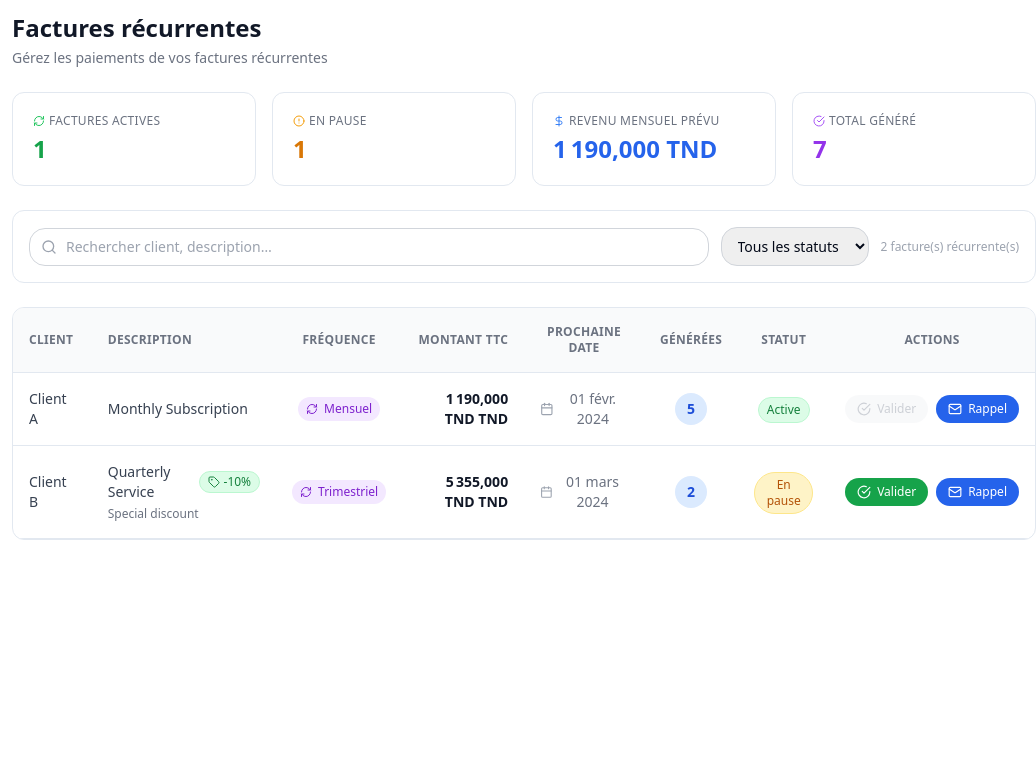
Test: RecurringInvoices › Search Functionality › should filter invoices by search term
This screenshot has width=1036, height=780.
Expected: the text "Monthly Subscription" is shown, x1=108 y1=399 x2=260 y2=419
Type "Monthly" into the field with placeholder "Rechercher client, description…" at [369, 246], box x1=29 y1=228 x2=708 y2=266
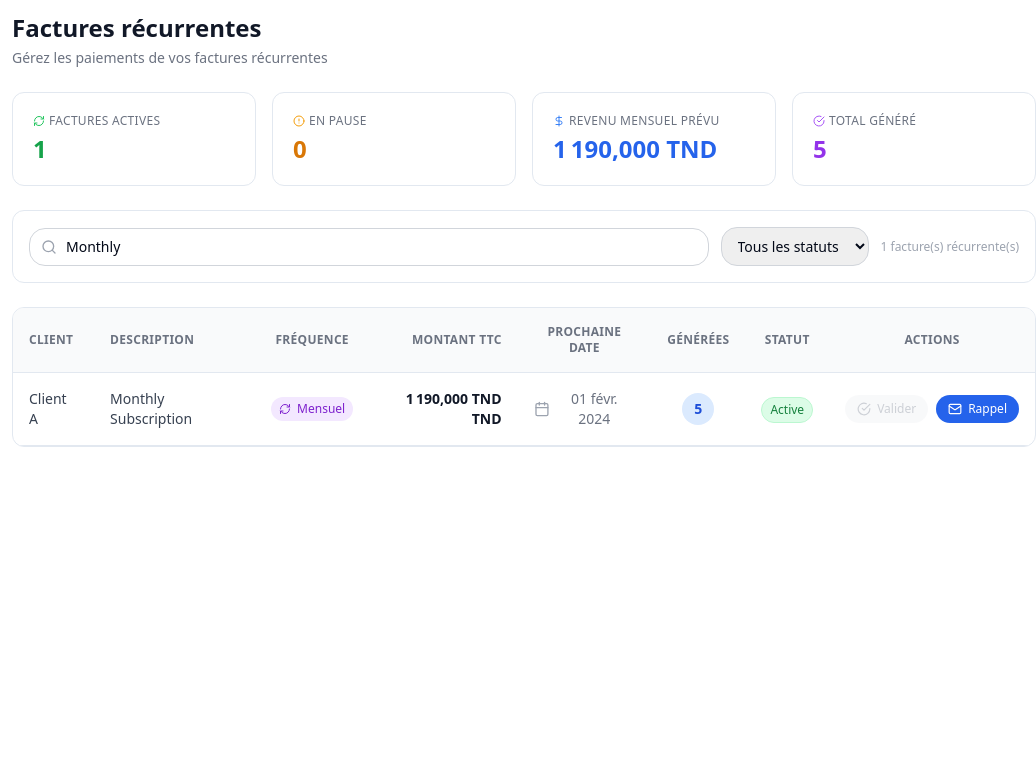
Expected: the text "Monthly Subscription" is shown, x1=110 y1=389 x2=192 y2=428
Expected: the text "Quarterly Service" is gone
